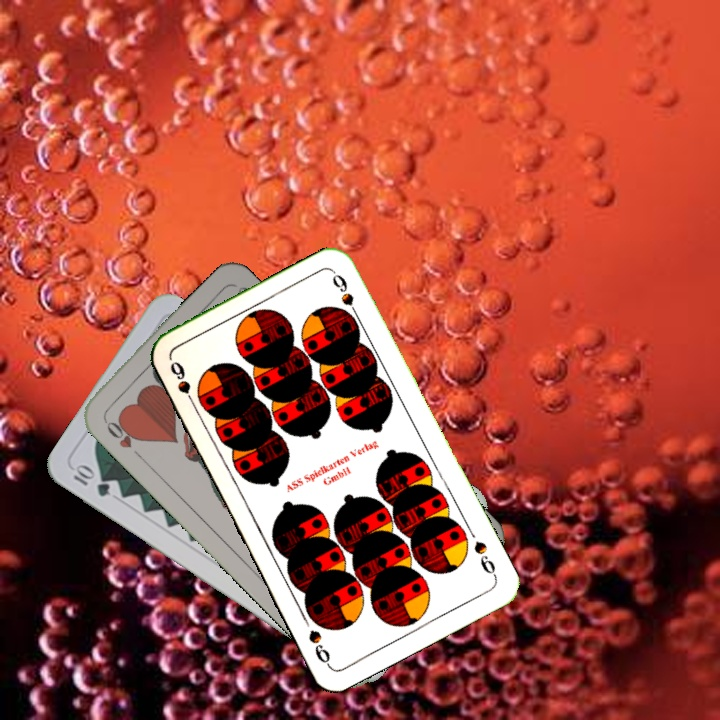G10: (67, 461, 113, 500)
HO: (99, 413, 145, 462)
S9: (166, 357, 204, 411), (469, 537, 500, 582)
